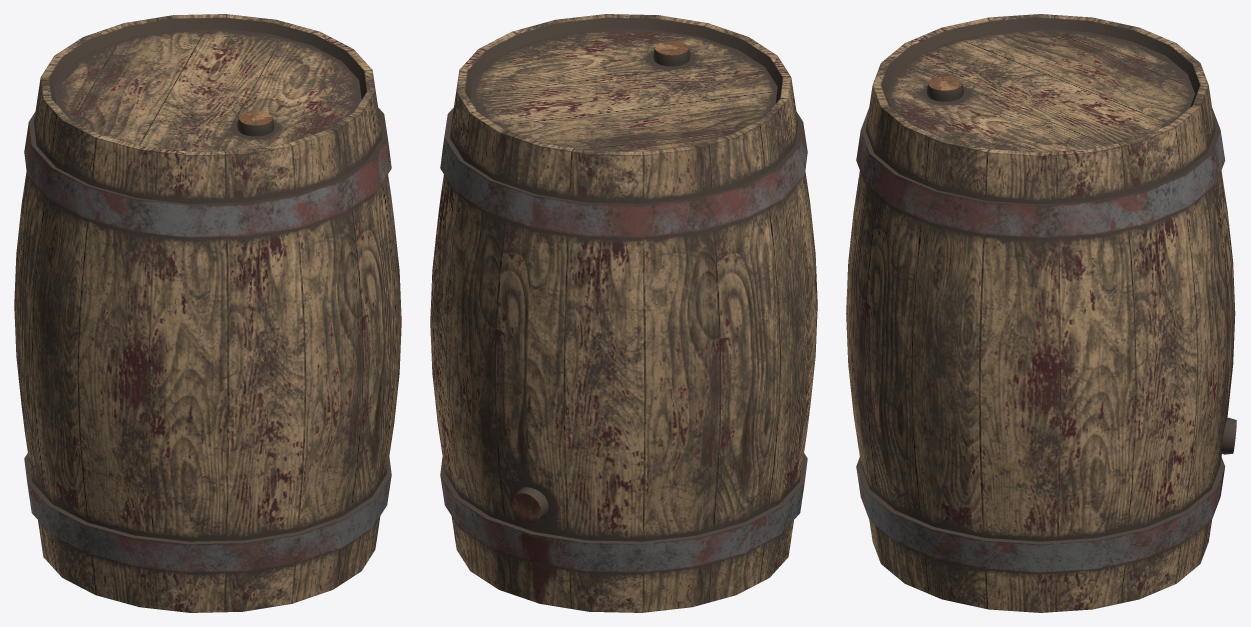
File: barrel.glb
3 renders of one model, left to right at view 1: azimuth 30°, elevation 25°; view 2: azimuth 150°, elevation 25°; view 3: azimuth 270°, elevation 25°, orthographic.
Visible parts, largest first — view 1: pCylinder1, pCylinder3; view 2: pCylinder1, pCylinder2, pCylinder3; view 3: pCylinder1, pCylinder3.
Part boxes in pixels (<box>): pCylinder1: <box>14,14,401,612</box>; pCylinder3: <box>237,111,274,136</box>; pCylinder1: <box>430,14,817,612</box>; pCylinder2: <box>512,487,548,523</box>; pCylinder3: <box>653,41,690,66</box>; pCylinder1: <box>846,14,1235,612</box>; pCylinder3: <box>926,76,963,101</box>.
Bounding box in the file's own units: 2.32 × 3.01 × 2.32.
Materials: 1 (1 with a texture image).
